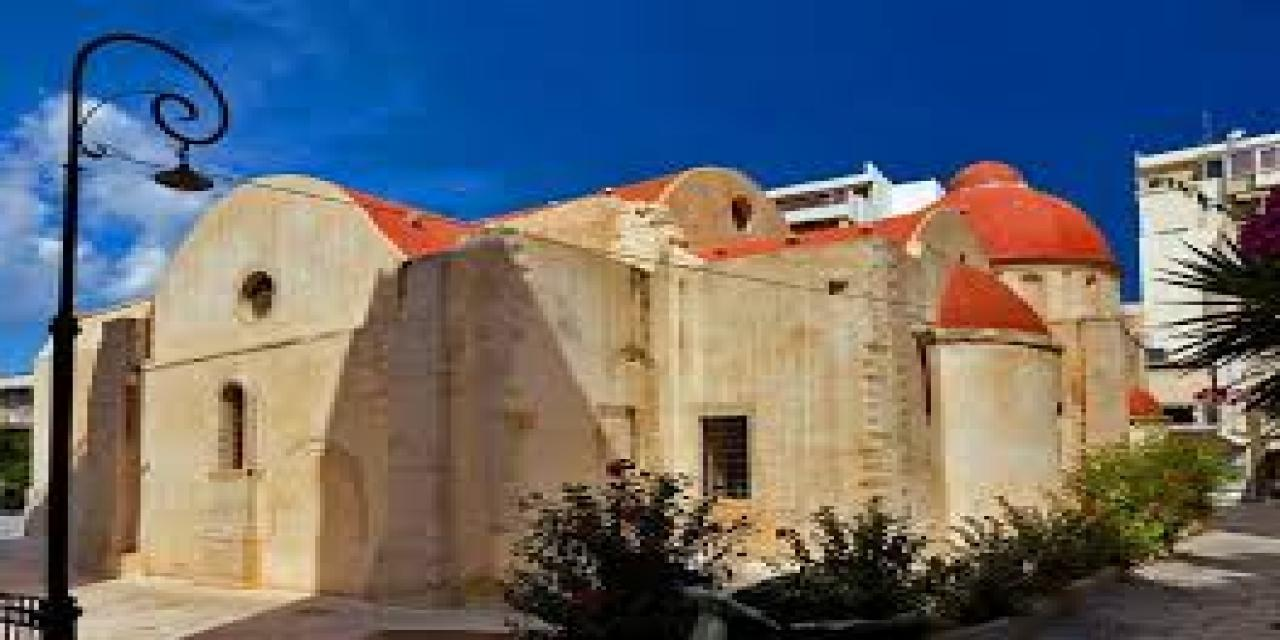Agia Aikaterini: (43, 158, 1150, 601)
